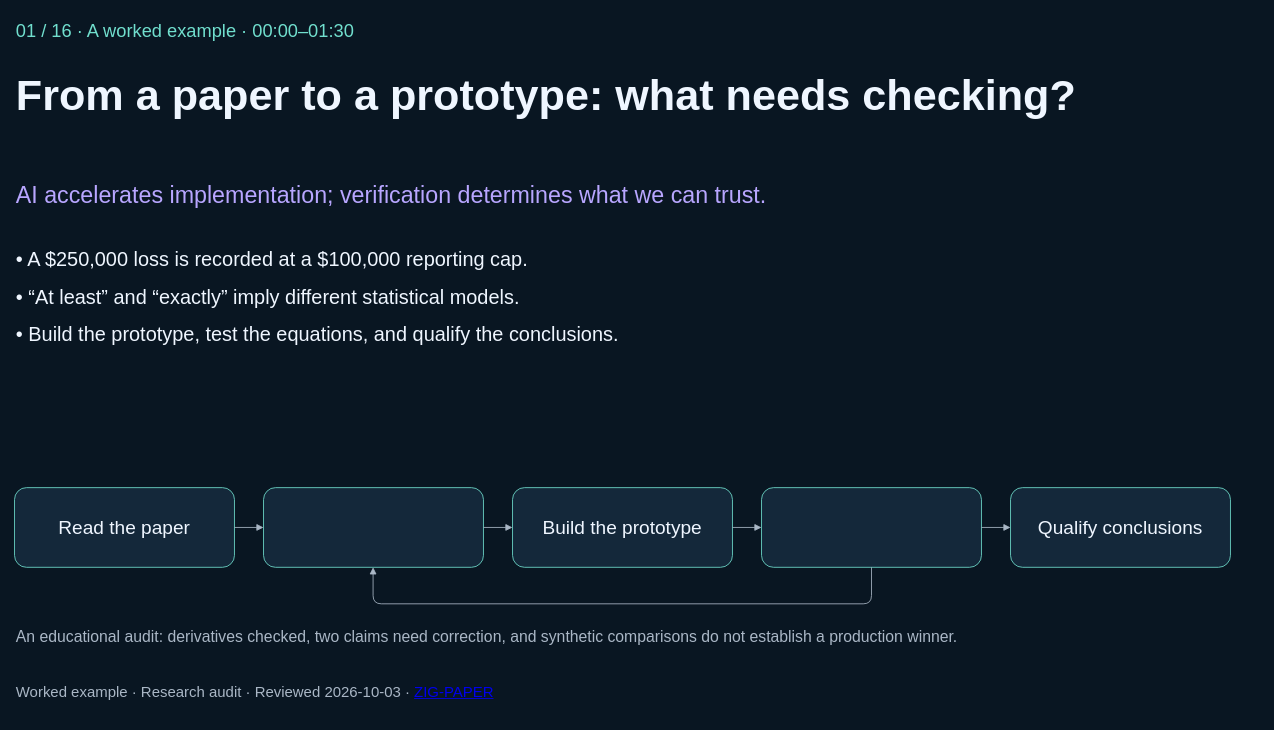
This 1274x730 diagram has some shape labels left out. Here are the shapes that lost their labels. From the top down, the centre of each, then its label:
(x=373, y=527): Preserve assumptions
(x=871, y=527): Check equations
